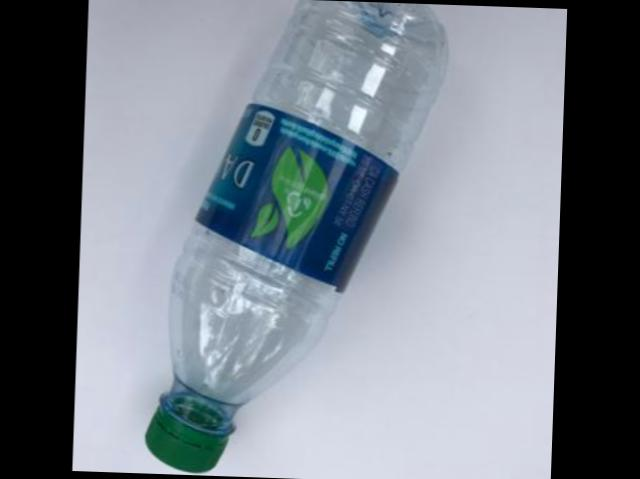plastic: (144, 0, 445, 472)
